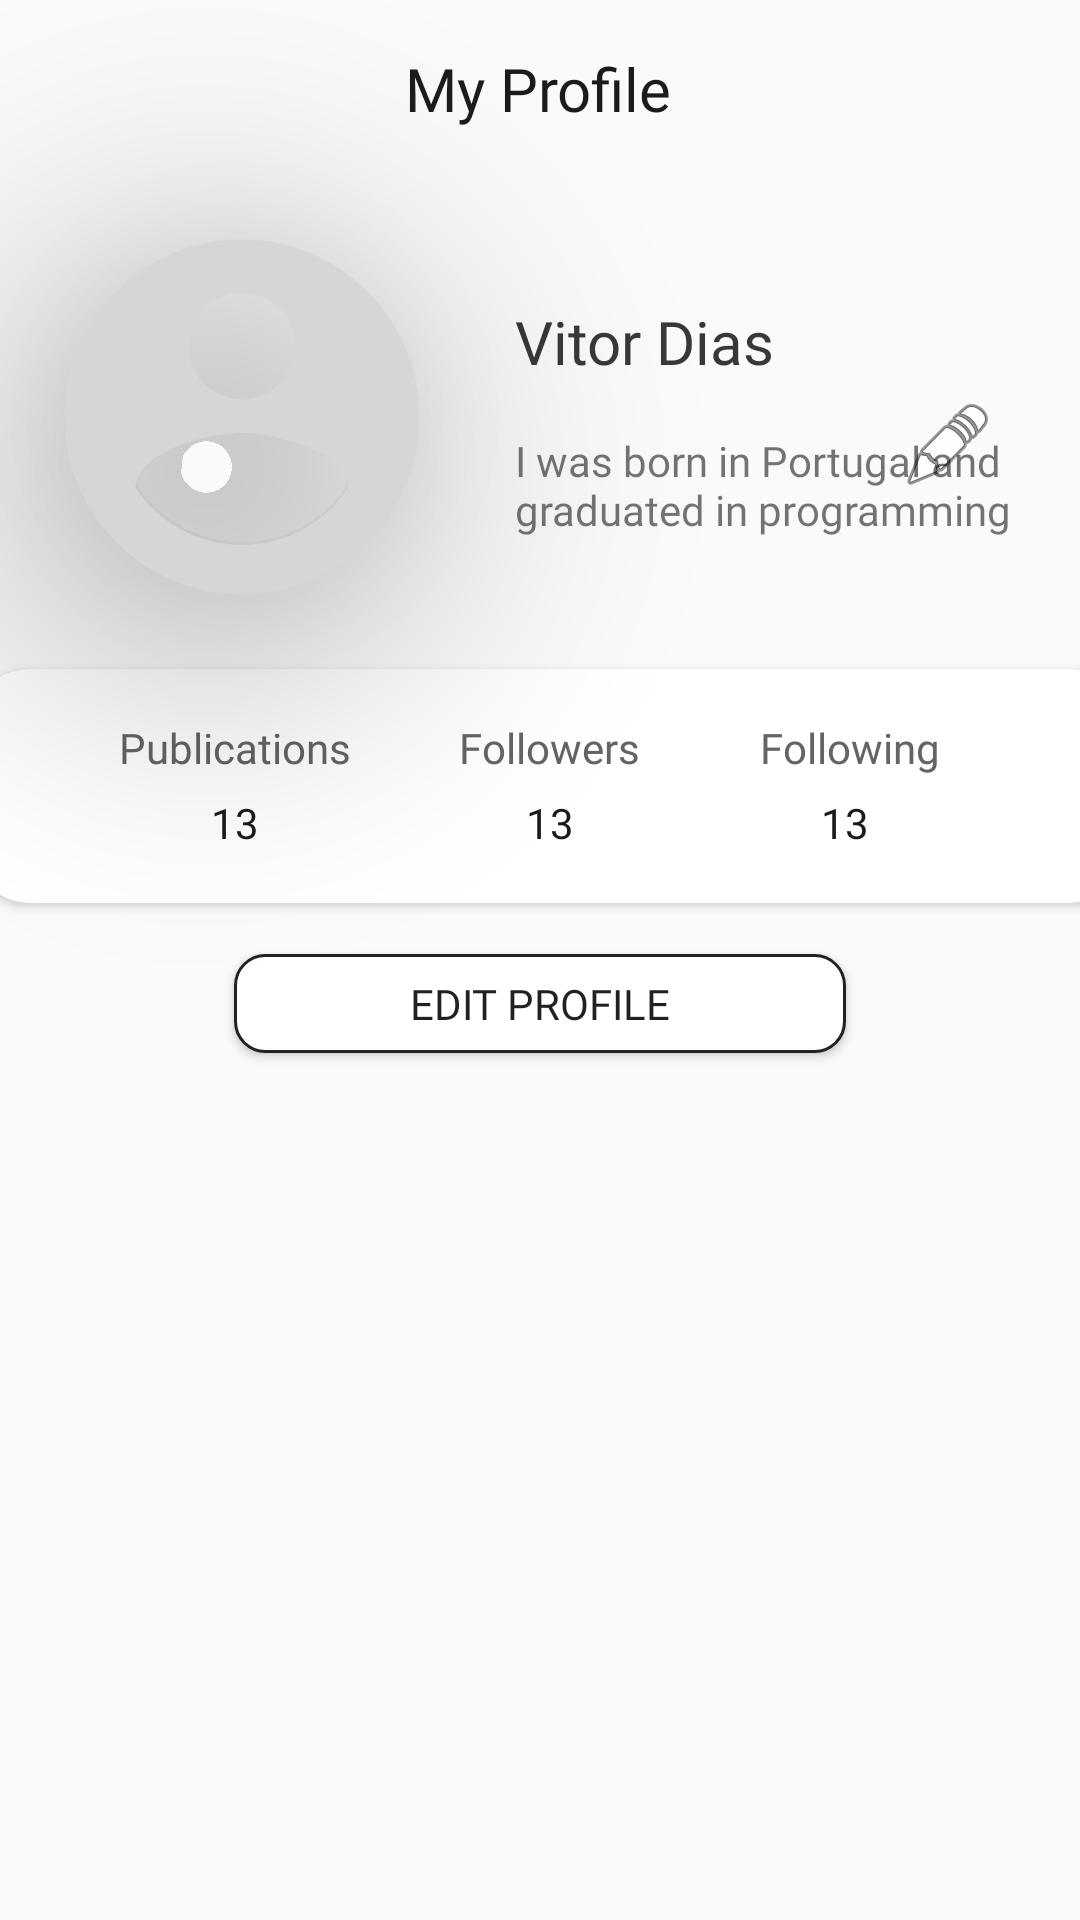

Named icons in this screenshot (1080 x 1920) and their bounding boxes, (x1, y1, x2, y2):
edit: (900, 404, 996, 485)
